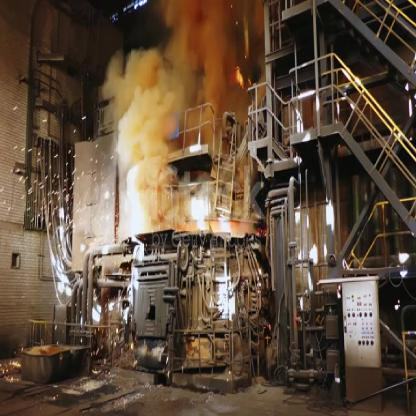smoke: (104, 9, 275, 248)
